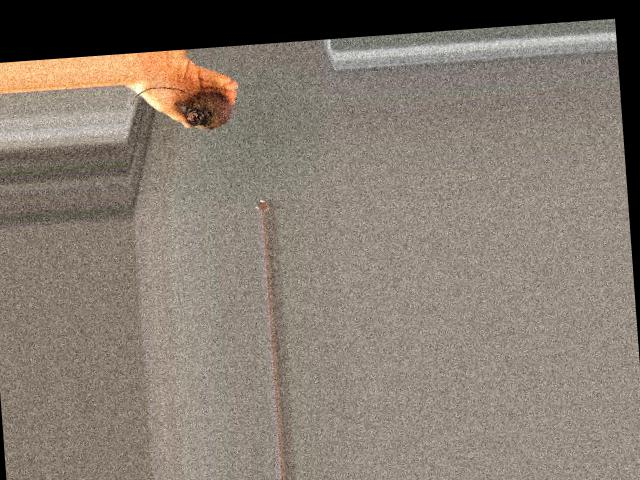beet: (131, 80, 245, 134)
